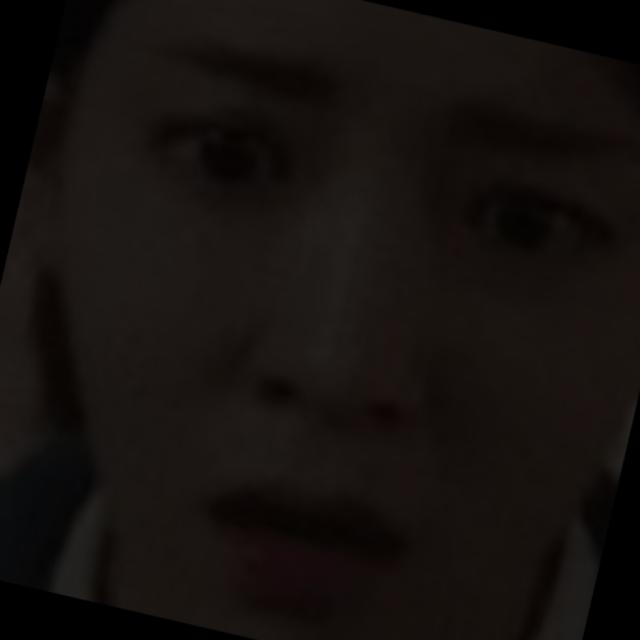Surprised: (23, 50, 640, 640)
